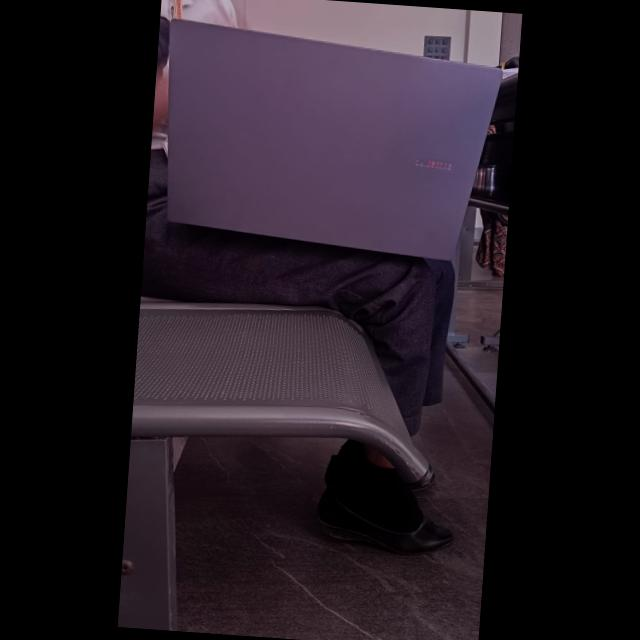laptop: (144, 37, 516, 266)
